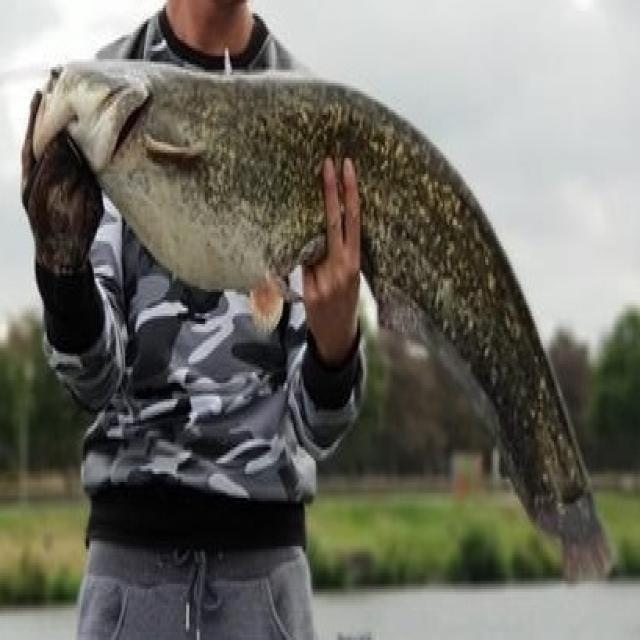Catfish: (15, 31, 621, 603)
